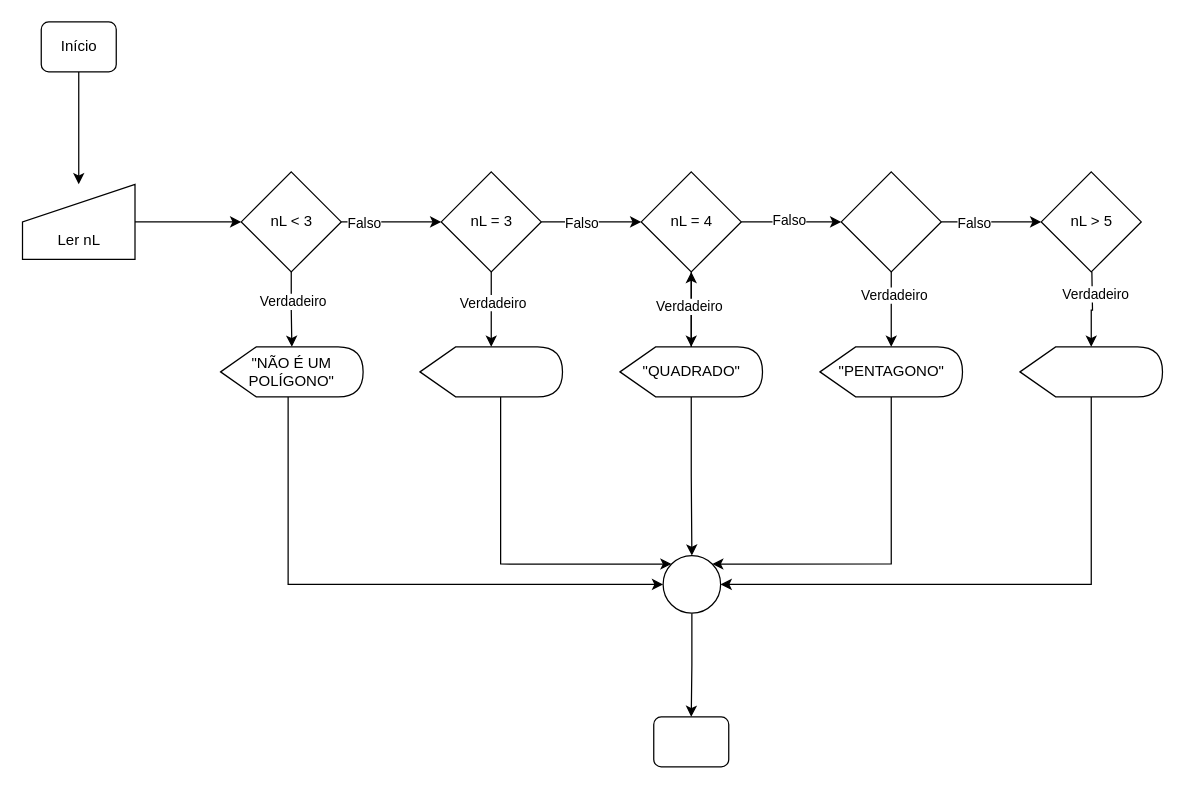
Image size: 1184x789. Some labels were removed from this diagram. Each missing label, with the centre of its shape:
" POLÍGONO NÃO IDENTIFICADO": point (1090, 371)
"TRIÂNGULO": point (490, 371)
Fim: point (690, 741)
nL = 5: point (890, 221)
